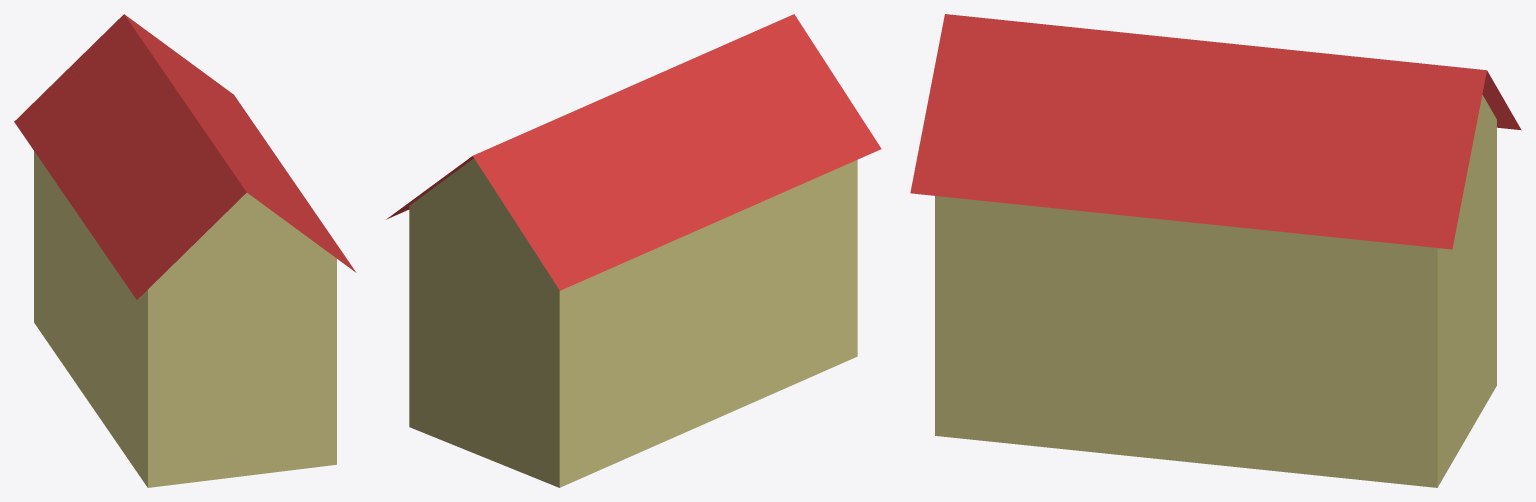
The picture shows the model from 3 angles, left to right: view 1: azimuth 30°, elevation 25°; view 2: azimuth 150°, elevation 25°; view 3: azimuth 270°, elevation 25°; orthographic projection. The views are drawn at different scales.
Parts seen in each view (by area): view 1: group_5, group_3, group_4; view 2: group_5, group_3, group_4; view 3: group_5, group_3, group_4.
Part boxes in pixels (x1,y1,x2,y2): group_5: (34, 151, 336, 487); group_3: (14, 14, 336, 299); group_4: (14, 14, 356, 272); group_5: (409, 158, 857, 487); group_3: (391, 14, 881, 290); group_4: (386, 150, 647, 290); group_5: (935, 95, 1496, 487); group_3: (935, 16, 1521, 249); group_4: (910, 14, 1518, 249).
Bounding box in the file's own units: 15.31 × 22.53 × 14.98.
